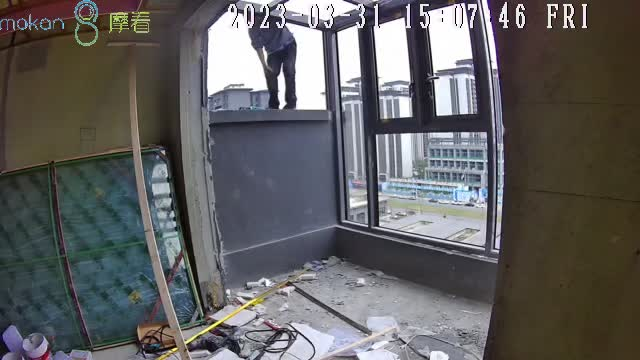people: (244, 12, 298, 106)
window: (209, 12, 503, 252)
